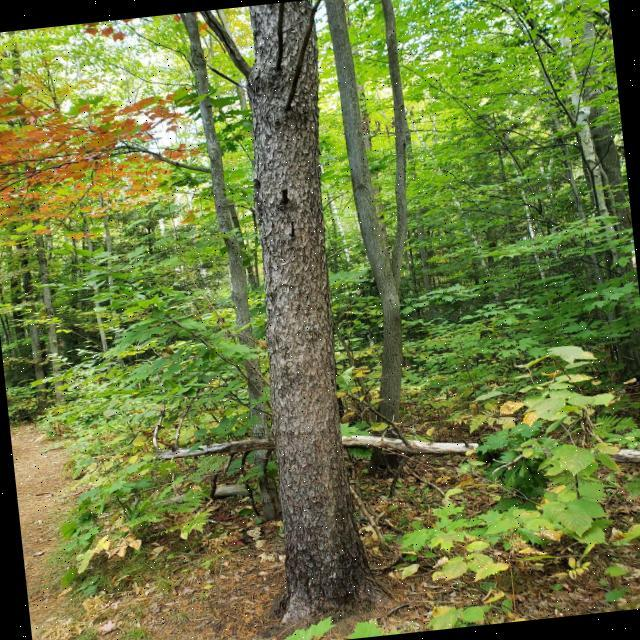fallen_object: (132, 372, 640, 544)
